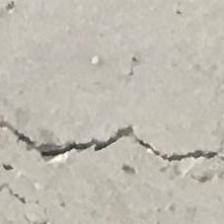Crack: (0, 106, 224, 170)
